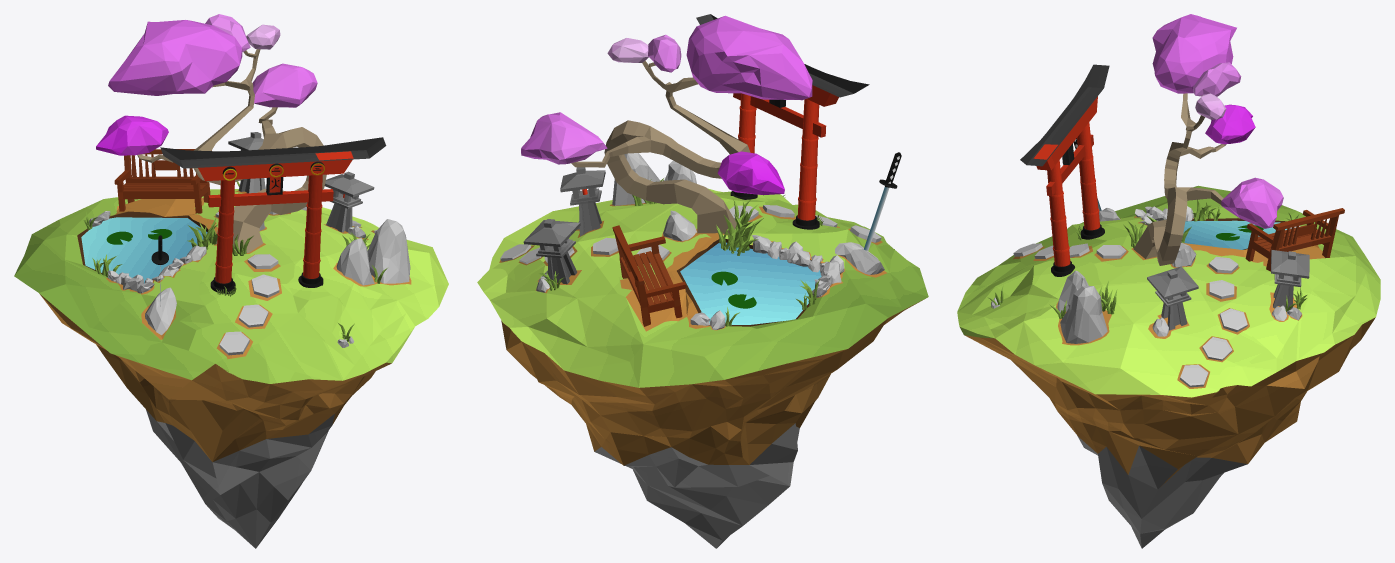
File: island.glb
3 renders of one model, left to right at view 1: azimuth 30°, elevation 25°; view 2: azimuth 150°, elevation 25°; view 3: azimuth 270°, elevation 25°, orthographic. The views are drawn at different scales.
Visible parts, largest first — view 1: island_top, islandBottom, leaf, gate, trunk, bigRocks, bench, rocks, pathTop, grass, lanternBottom, lanternTop; view 2: island_top, islandBottom, leaf, trunk, gate, rocks, bench, lanternBottom, grass, lanternTop, pathTop, bigRocks (+3 smaller); view 3: island_top, islandBottom, leaf, gate, trunk, bench, pathTop, bigRocks, lanternTop, rocks, grass, lanternBottom (+1 smaller).
Part boxes in pixels (x1=…): island_top: x1=14, y1=189, x2=448, y2=383; islandBottom: x1=39, y1=293, x2=391, y2=548; leaf: x1=96, y1=14, x2=317, y2=155; gate: x1=160, y1=137, x2=386, y2=294; trunk: x1=137, y1=49, x2=326, y2=252; bigRocks: x1=336, y1=219, x2=410, y2=285; bench: x1=114, y1=149, x2=211, y2=213; rocks: x1=89, y1=186, x2=366, y2=347; pathTop: x1=216, y1=206, x2=376, y2=352; grass: x1=83, y1=180, x2=387, y2=341; lanternBottom: x1=238, y1=149, x2=362, y2=232; lanternTop: x1=228, y1=132, x2=374, y2=197; island_top: x1=477, y1=188, x2=928, y2=387; islandBottom: x1=501, y1=299, x2=924, y2=548; leaf: x1=521, y1=15, x2=812, y2=195; trunk: x1=571, y1=60, x2=750, y2=234; gate: x1=696, y1=14, x2=869, y2=229; rocks: x1=536, y1=210, x2=884, y2=329; bench: x1=612, y1=225, x2=686, y2=326; lanternBottom: x1=536, y1=187, x2=601, y2=285; grass: x1=539, y1=178, x2=823, y2=326; lanternTop: x1=523, y1=167, x2=605, y2=246; pathTop: x1=500, y1=205, x2=881, y2=261; bigRocks: x1=612, y1=153, x2=696, y2=205; island_top: x1=957, y1=185, x2=1380, y2=397; islandBottom: x1=964, y1=317, x2=1375, y2=548; leaf: x1=1152, y1=14, x2=1283, y2=228; gate: x1=1020, y1=64, x2=1109, y2=276; trunk: x1=1133, y1=93, x2=1226, y2=265; bench: x1=1245, y1=208, x2=1344, y2=271; pathTop: x1=1013, y1=243, x2=1247, y2=385; bigRocks: x1=1057, y1=270, x2=1107, y2=343; lanternTop: x1=1147, y1=250, x2=1309, y2=299; rocks: x1=991, y1=206, x2=1301, y2=336; grass: x1=987, y1=199, x2=1306, y2=318; lanternBottom: x1=1155, y1=274, x2=1301, y2=330.
Size of the model in its own units: 15.23 by 19.95 by 15.29.
Materials: 3 (3 with a texture image).
